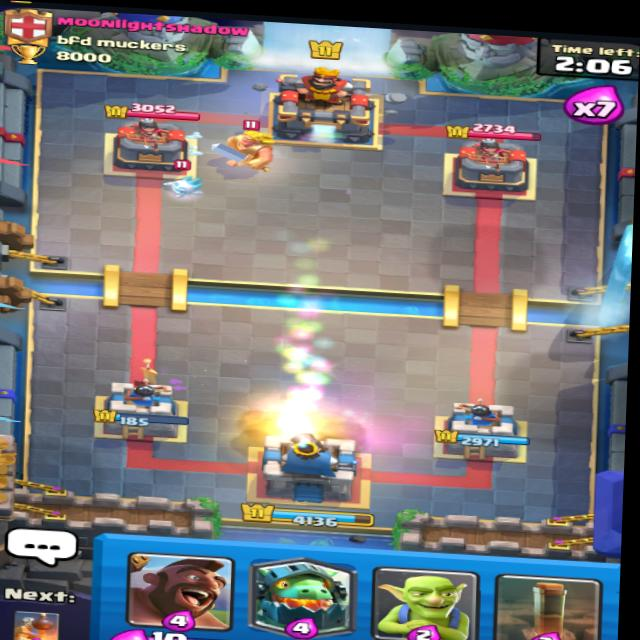Goldenknight: (210, 111, 295, 176)
Icespirit: (161, 170, 204, 201)
